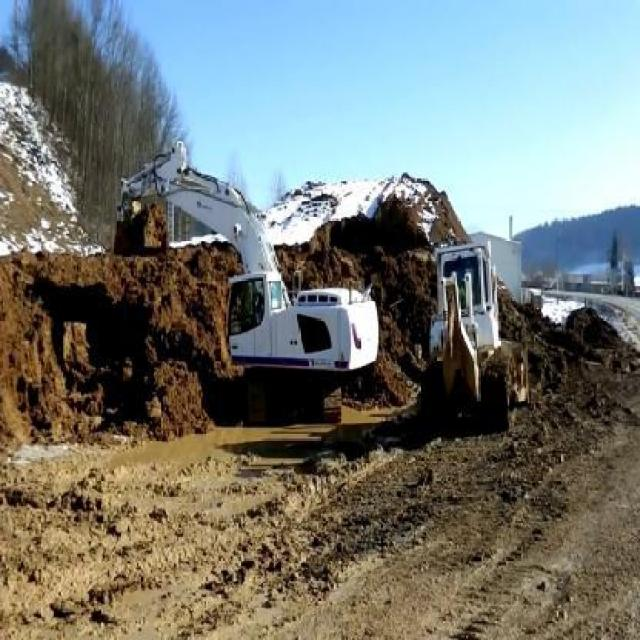Excavator: (113, 137, 381, 428)
